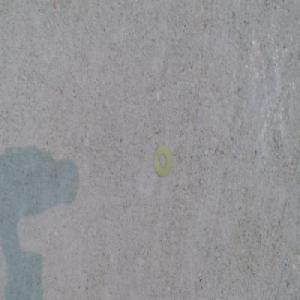Washer: (153, 145, 173, 179)
